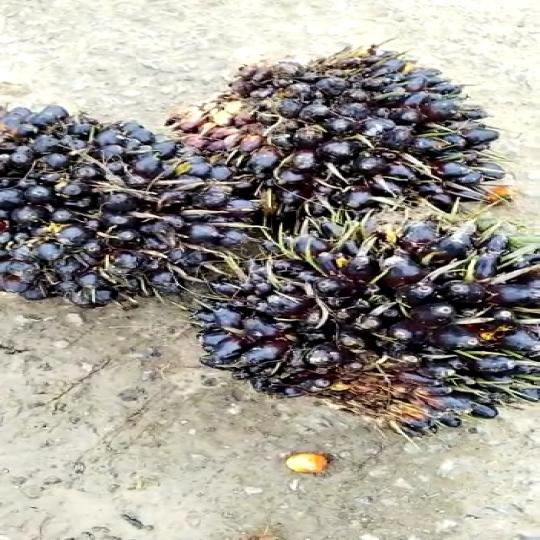mentah: (168, 201, 540, 444), (147, 34, 506, 230), (0, 96, 268, 295)
